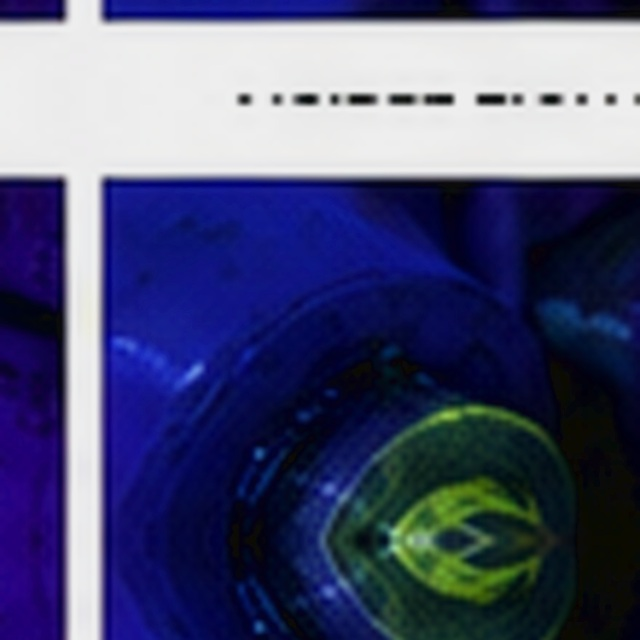hydraulic_oil_leak: (377, 479, 537, 583), (375, 407, 540, 463), (350, 476, 397, 524), (350, 556, 391, 593), (384, 466, 388, 474)
